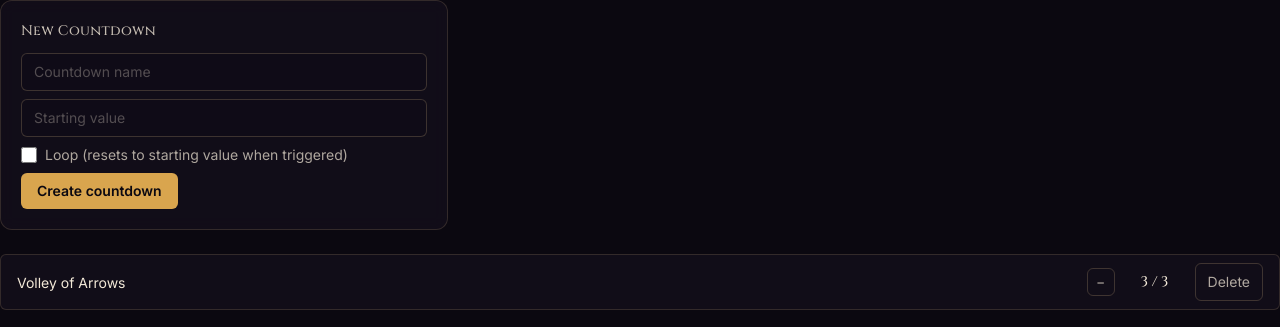
it: CountdownsPanel › advances a countdown
Expected: the text "3 / 3" is shown, [1141,272,1168,291]
Click the button named "Advance Volley of Arrows": (1101, 282) [1087,268,1115,296]
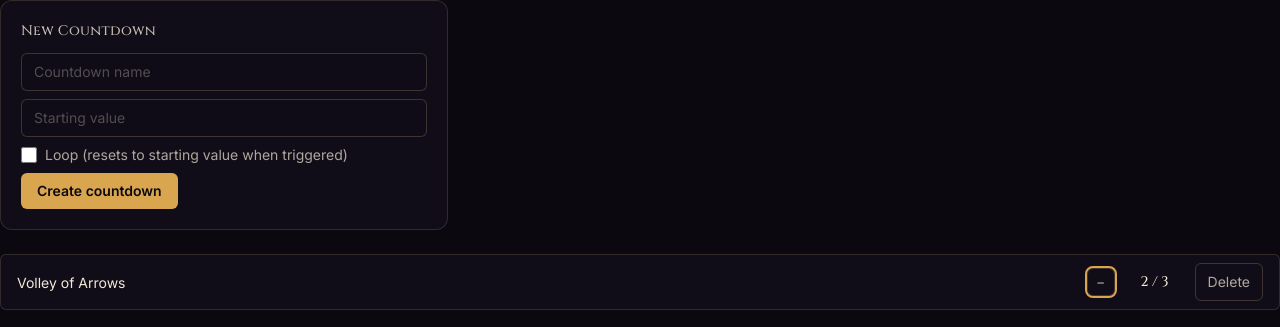
Result: the text "2 / 3" is shown at [1140,272,1169,291]
